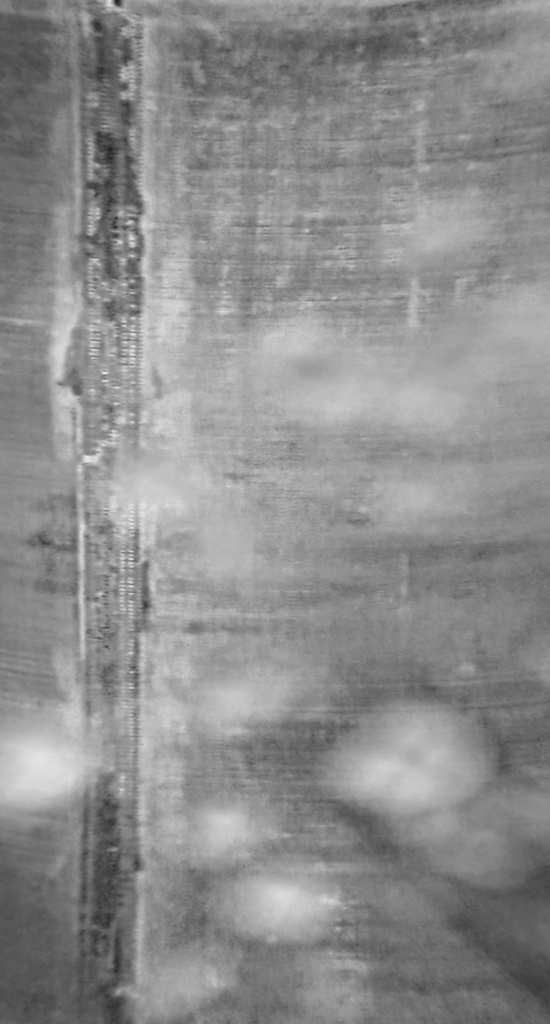splice: (61, 1, 148, 1024)
